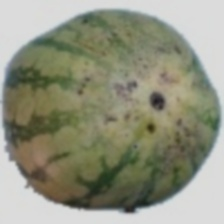watermelon: (26, 40, 224, 194)
